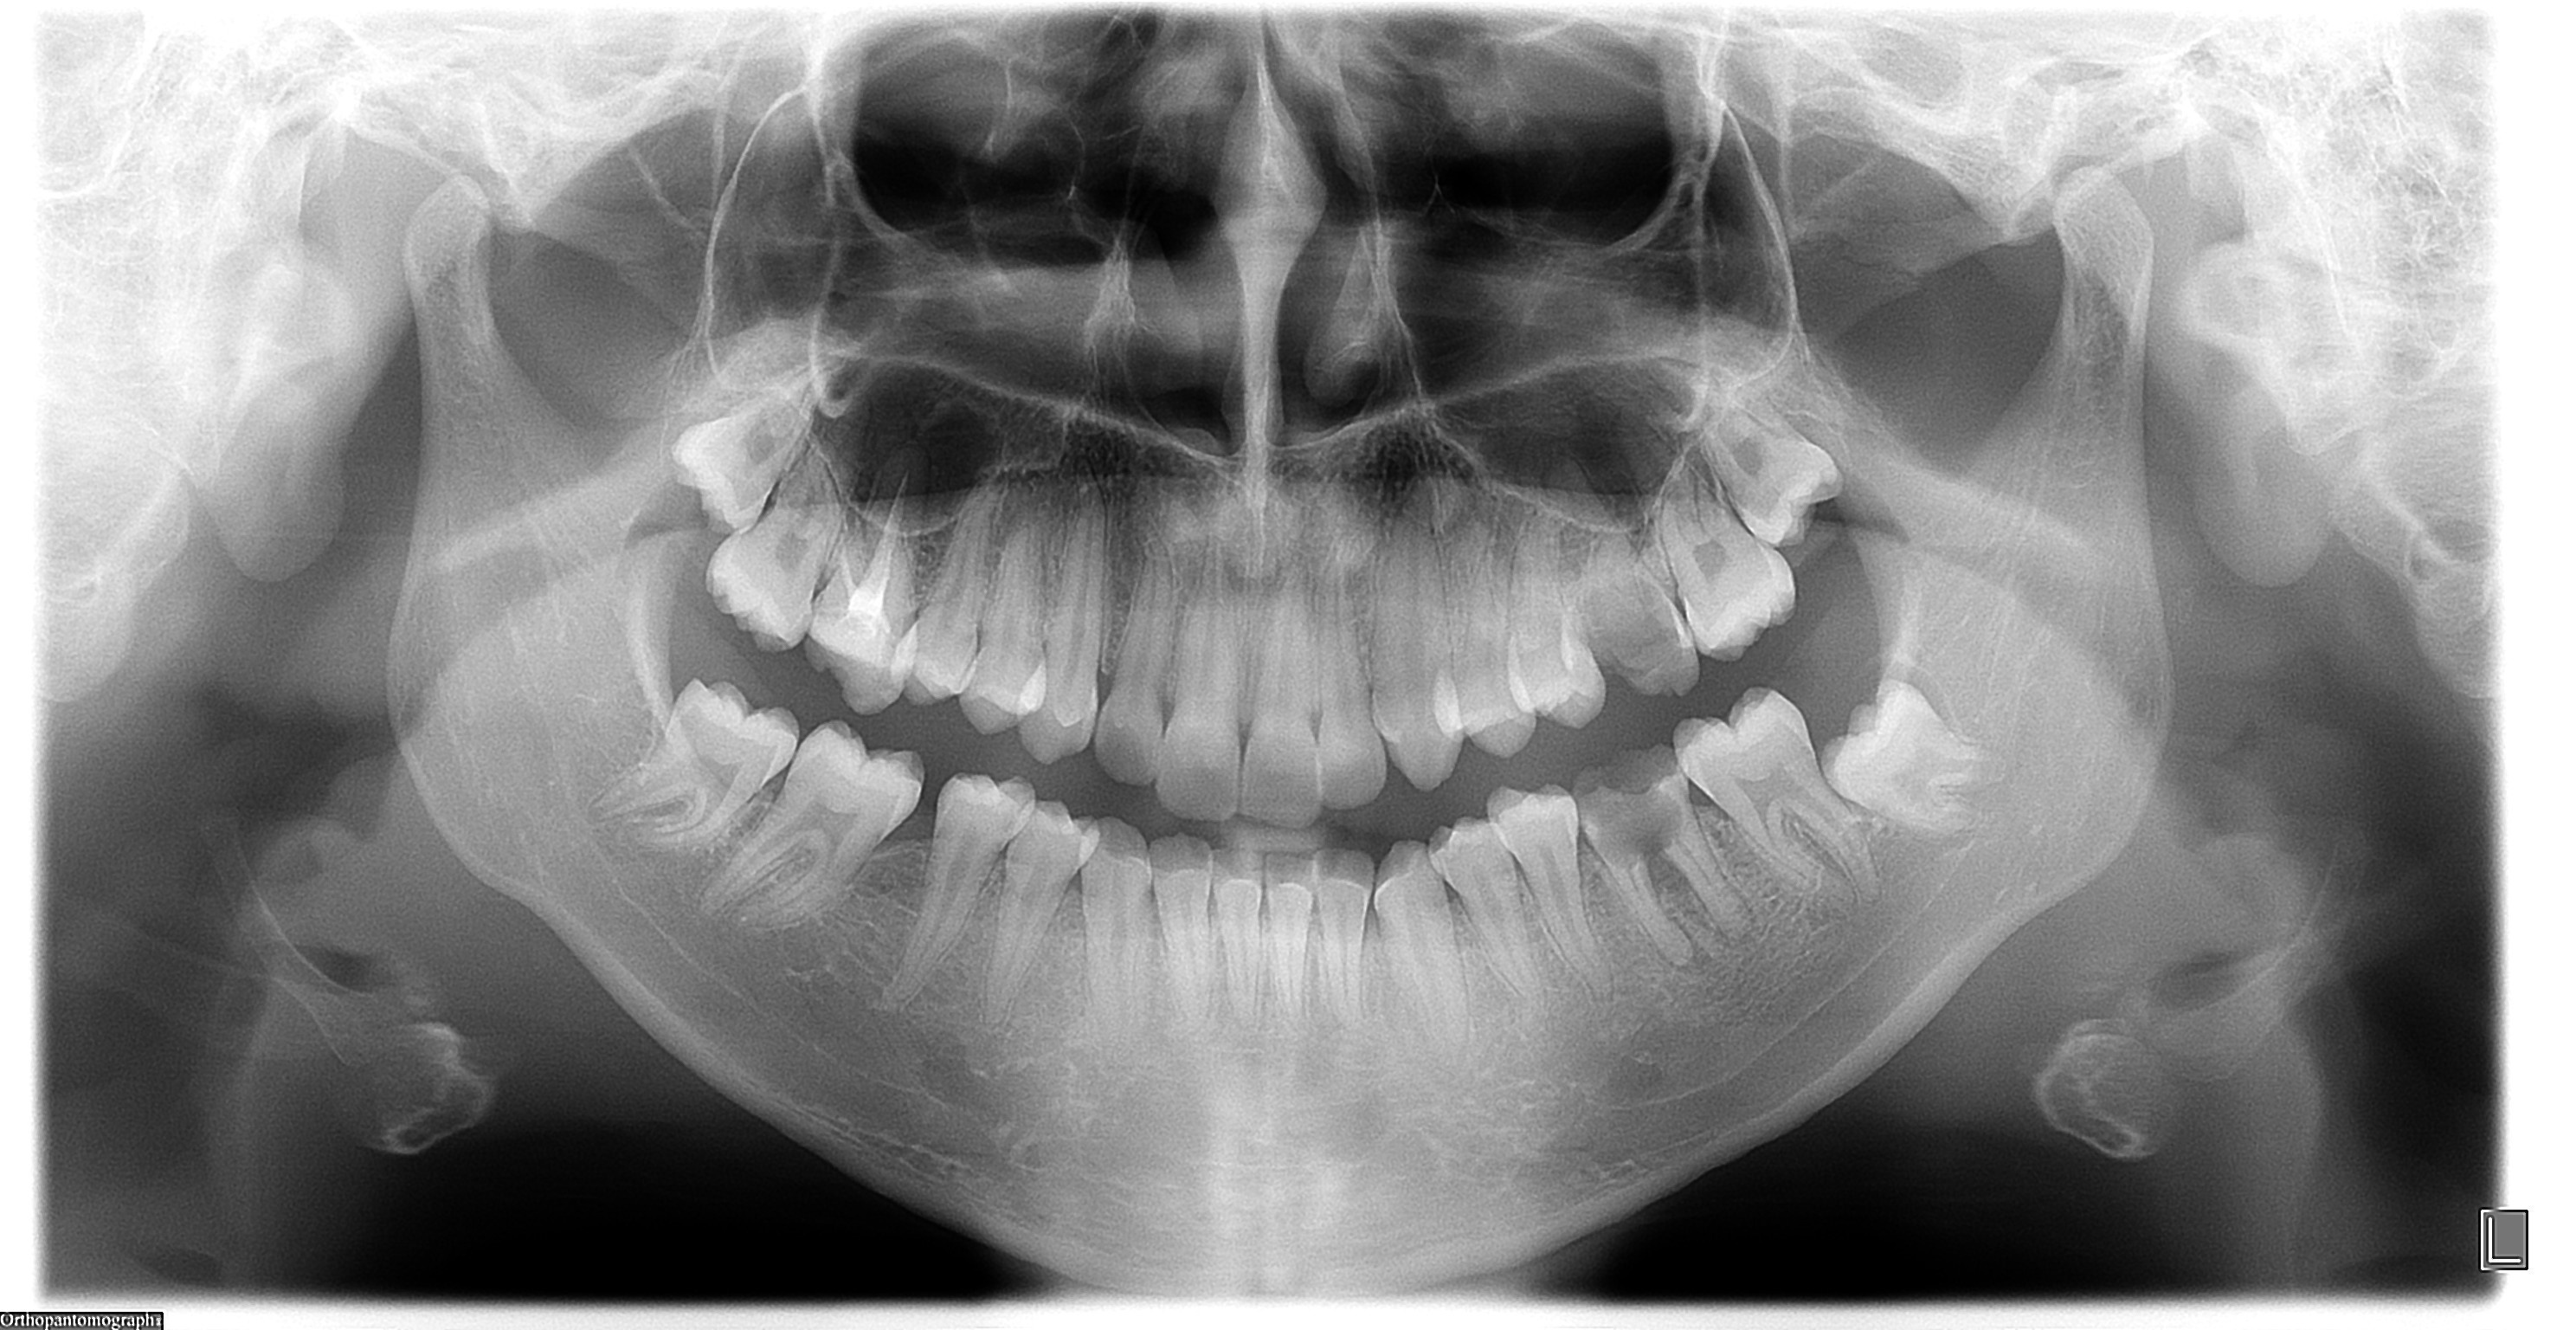API: (1665, 913, 1759, 975)
CAR: (1589, 572, 1679, 679)
END: (839, 470, 909, 614)
FUR: (1647, 852, 1689, 896)
IMT: (1821, 662, 2006, 833)
OBT: (826, 602, 894, 668)
